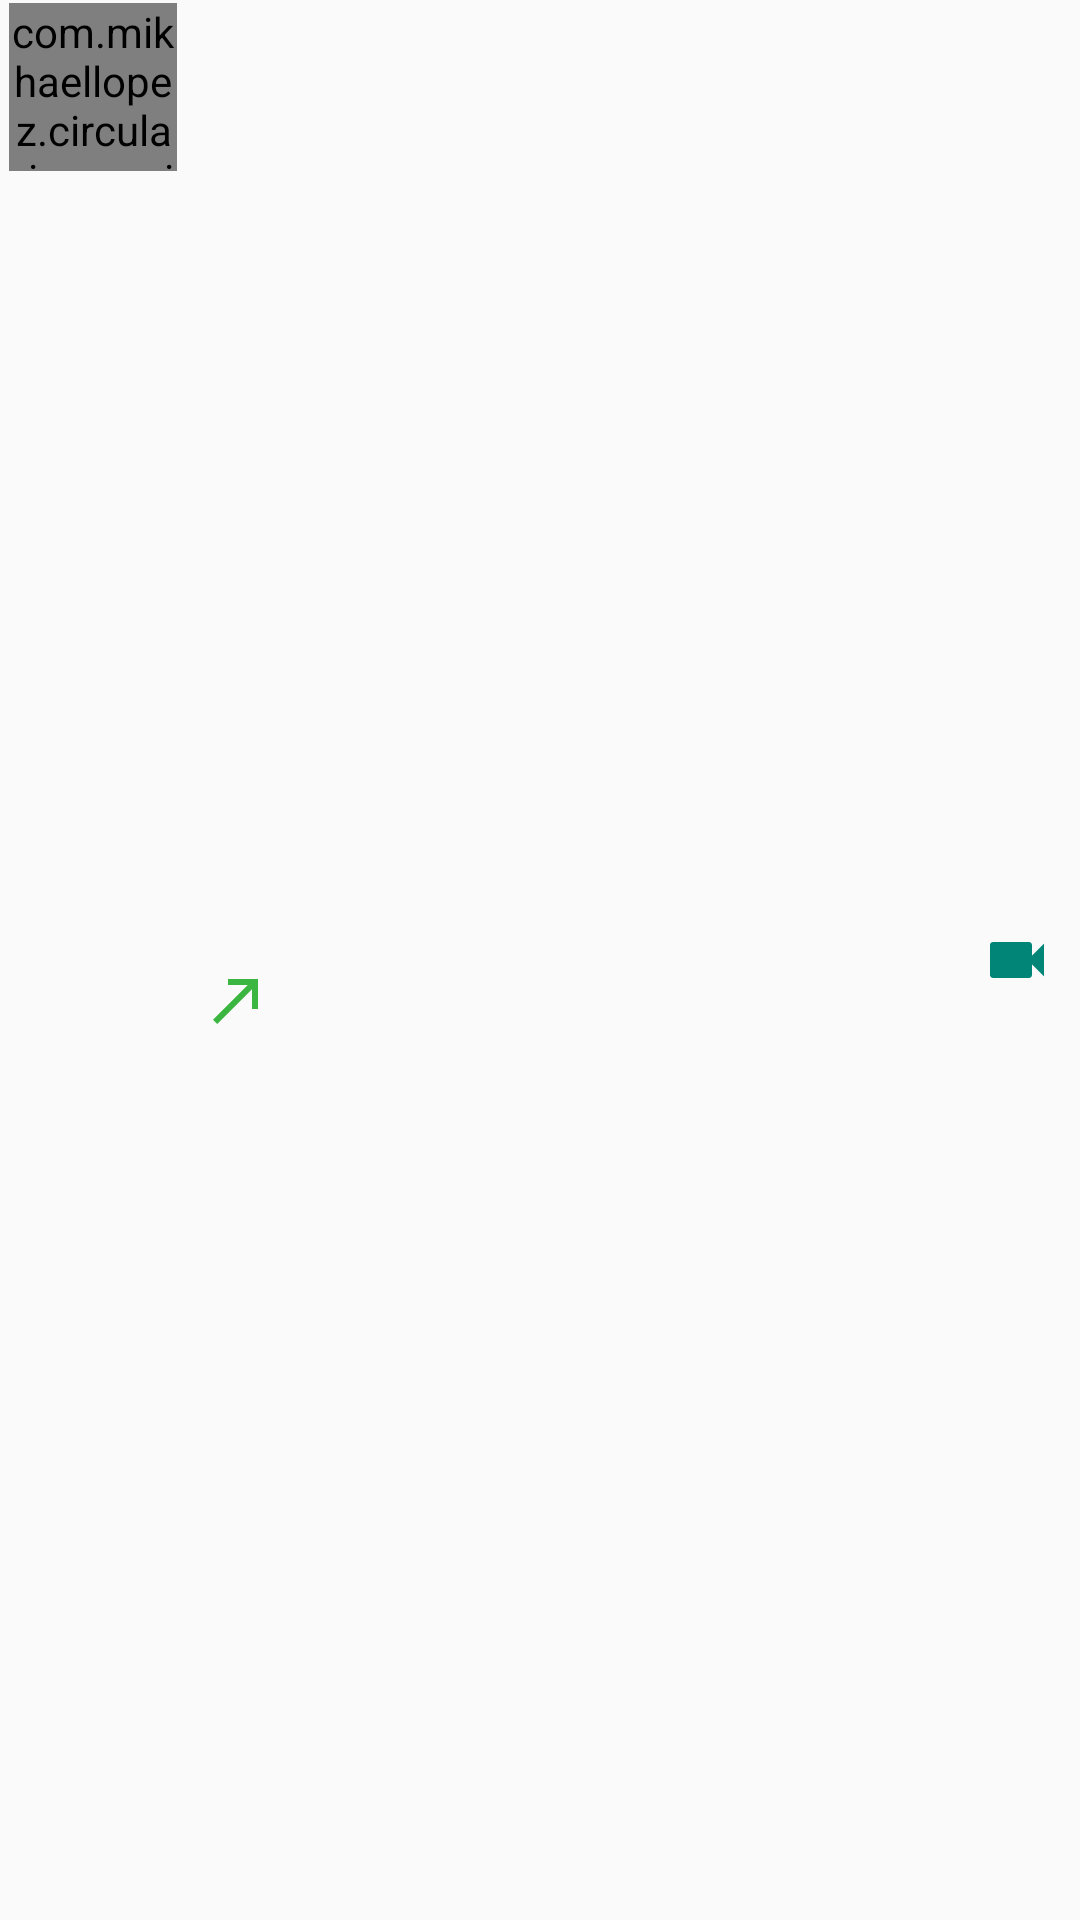

Where to tap for icons on this 1080px×1920px app screen, as [x,y]:
call made: [235,1001]
video: [1017,960]
